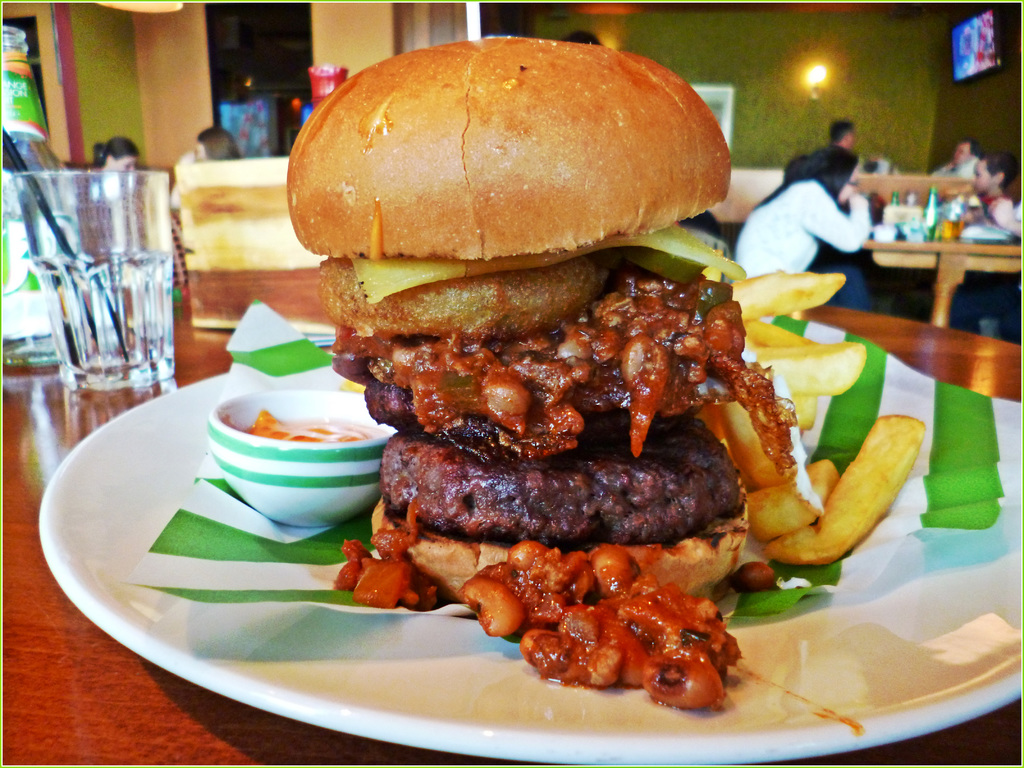French fries: (726, 278, 938, 580)
